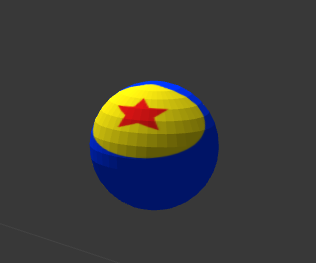toy story ball: (90, 81, 219, 211)
